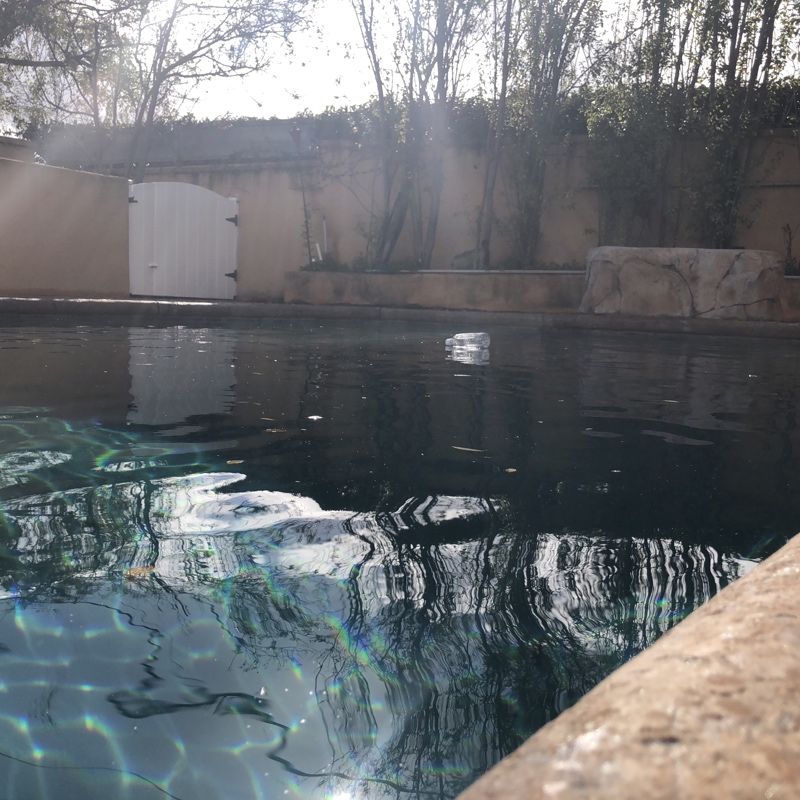Plastic Bottle: (445, 332, 488, 351)
